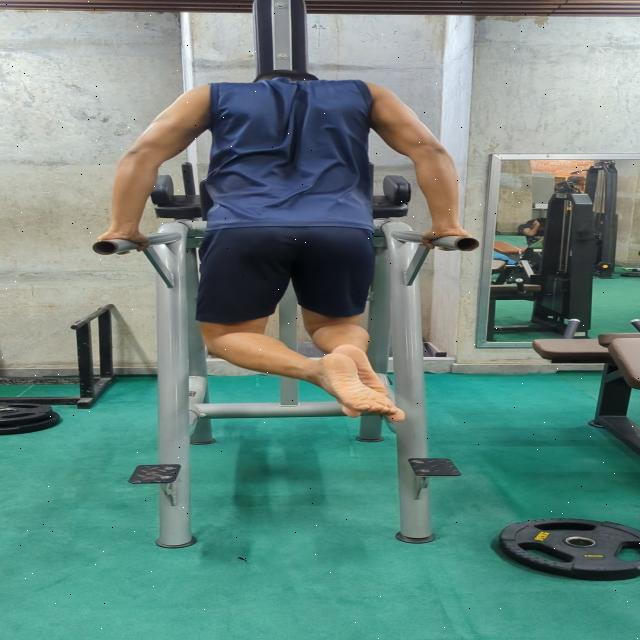Normal_Dips: (89, 64, 471, 444)
